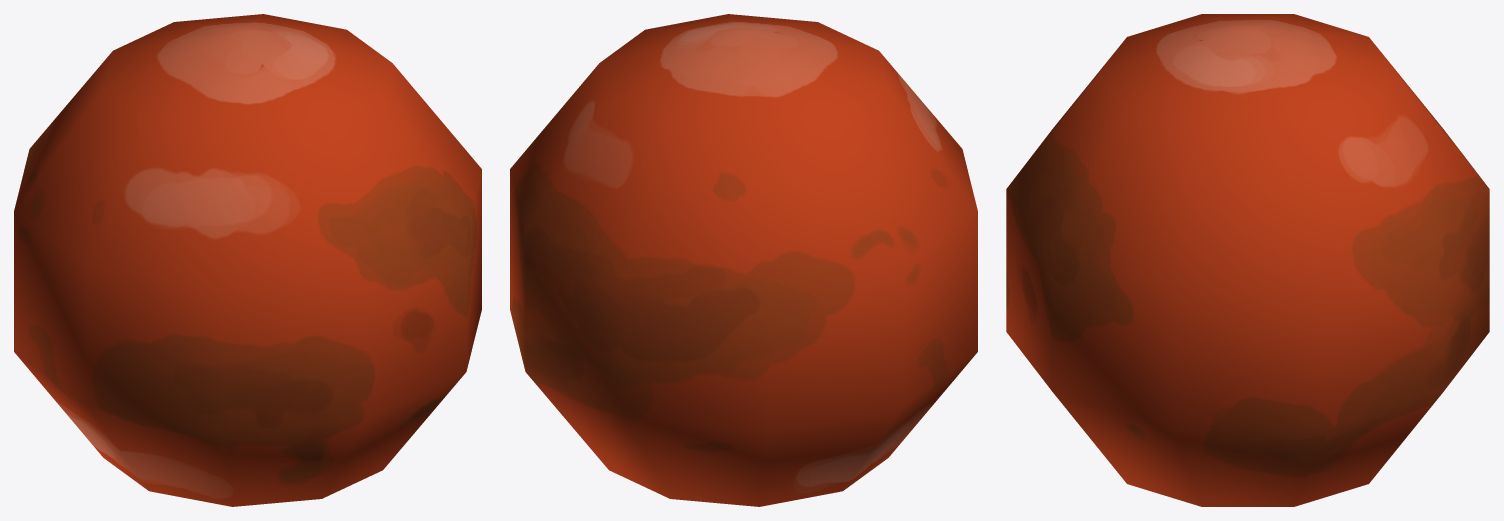
The model's file is Mars.FBX.
The picture shows the model from 3 angles, left to right: view 1: azimuth 30°, elevation 25°; view 2: azimuth 150°, elevation 25°; view 3: azimuth 270°, elevation 25°; orthographic projection.
Visible parts, largest first — view 1: Planet002; view 2: Planet002; view 3: Planet002.
Part boxes in pixels (x1,y1,x2,y2): Planet002: [14, 14, 481, 506]; Planet002: [510, 14, 977, 506]; Planet002: [1006, 14, 1489, 506].
Bounding box in the file's own units: 241 × 266 × 253.
